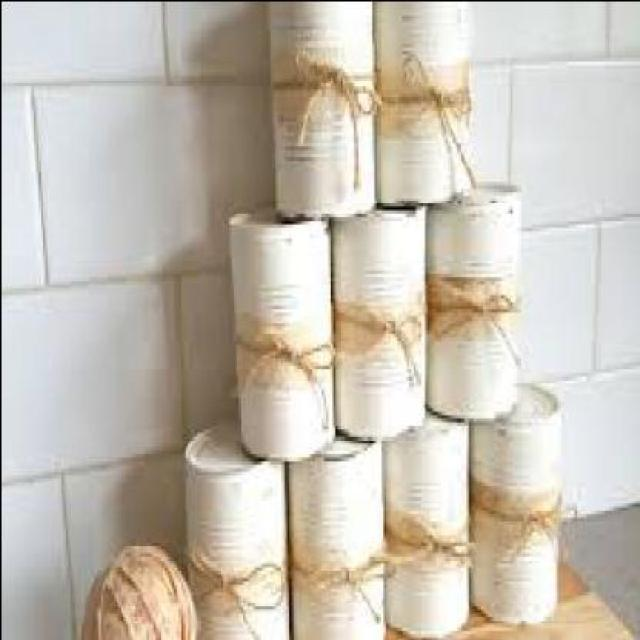METAL: (233, 202, 332, 452), (186, 418, 291, 636), (469, 378, 562, 622), (423, 183, 519, 414), (336, 198, 429, 434), (271, 1, 375, 212), (385, 396, 472, 636), (292, 425, 385, 637), (372, 2, 472, 195)
